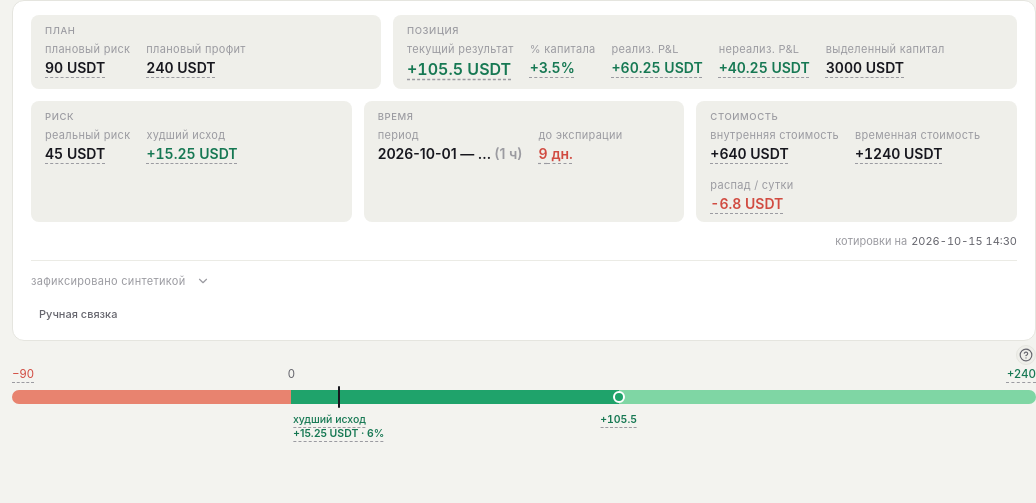
Test case: ConstructionMetricStrip: строка «зафиксировано синтетикой» › оставляет строку-переключатель без величин, когда все связки оспорены
The image size is (1036, 503).
Click the button "зафиксировано синтетикой". click: (108, 281)
box: [31,273,1017,290]
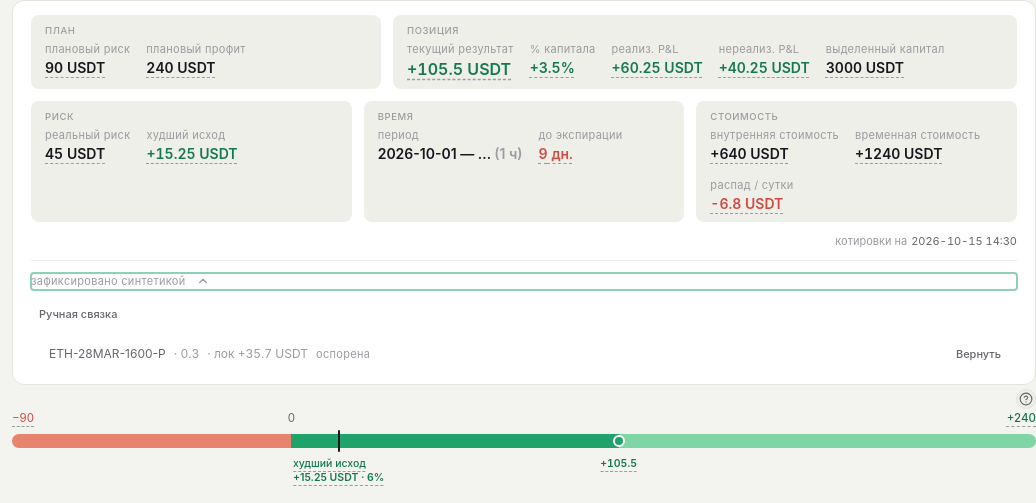
Now the list item "ETH-28MAR-1600-P · 0.3 · лок +35.7 USDT оспорена Вернуть" is shown, box [41,338,1017,370]
Now the text "оспорена" is shown, box [316,346,370,362]
Now the button "Вернуть" is shown, box [948,342,1009,366]
